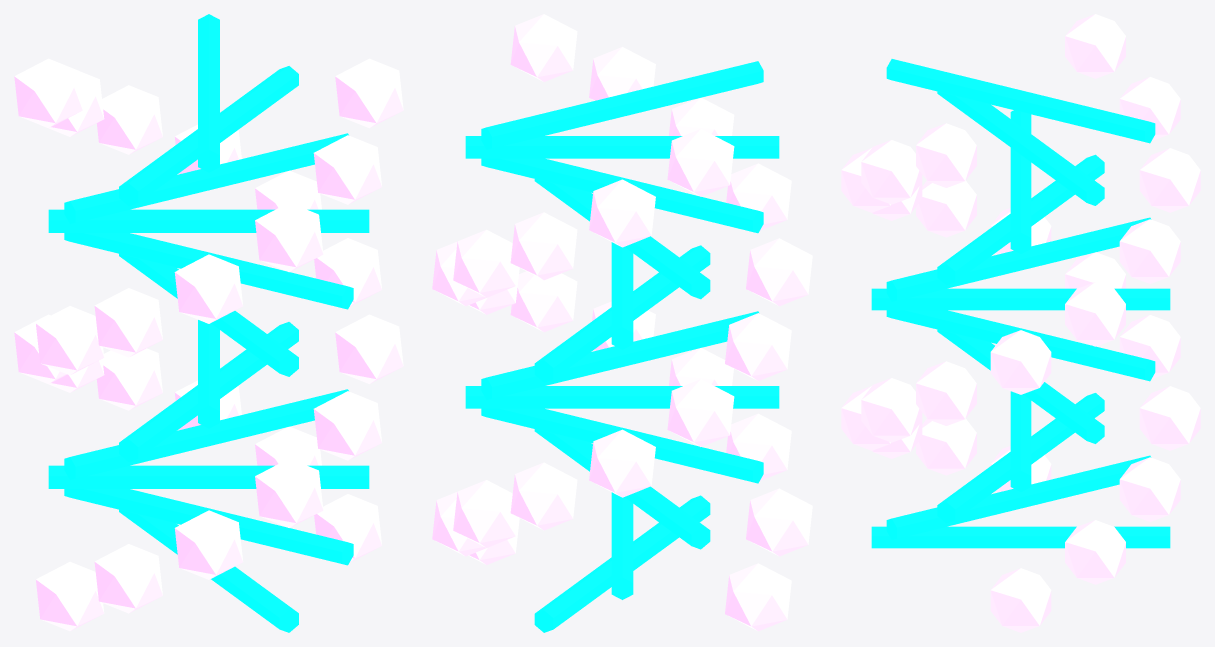
File: anomaly_gen.glb
The picture shows the model from 3 angles, left to right: view 1: azimuth 30°, elevation 25°; view 2: azimuth 150°, elevation 25°; view 3: azimuth 270°, elevation 25°; orthographic projection. The views are drawn at different scales.
Parts seen in each view (by area): view 1: Cylinder.002, Cylinder.008, Cylinder.007, Cylinder.001, Cylinder.009, Cylinder.003, Cylinder.010, Cylinder.004, Icosphere.005, Icosphere.014, Icosphere.023, Icosphere.016 (+24 smaller); view 2: Cylinder.011, Cylinder.010, Cylinder.004, Cylinder.003, Cylinder.009, Cylinder.005, Cylinder.006, Cylinder, Icosphere.010, Icosphere.023, Icosphere.014, Icosphere.022 (+24 smaller); view 3: Cylinder.011, Cylinder.006, Cylinder, Cylinder.005, Cylinder.001, Cylinder.007, Cylinder.010, Cylinder.008, Cylinder.002, Icosphere.013, Icosphere.019, Icosphere.004 (+24 smaller).
Boxes of the visible parts, <box> form: Cylinder.002: <box>48,465,369,488</box>; Cylinder.008: <box>48,209,369,232</box>; Cylinder.007: <box>64,233,353,309</box>; Cylinder.001: <box>64,489,353,565</box>; Cylinder.009: <box>64,133,348,224</box>; Cylinder.003: <box>64,389,348,479</box>; Cylinder.010: <box>119,66,298,206</box>; Cylinder.004: <box>119,322,298,461</box>; Icosphere.005: <box>174,510,243,579</box>; Icosphere.014: <box>94,288,162,357</box>; Icosphere.023: <box>14,58,82,128</box>; Icosphere.016: <box>174,254,242,323</box>; Cylinder.011: <box>481,61,763,149</box>; Cylinder.010: <box>465,136,779,158</box>; Cylinder.004: <box>465,386,779,408</box>; Cylinder.003: <box>481,408,763,483</box>; Cylinder.009: <box>481,158,763,233</box>; Cylinder.005: <box>481,311,759,399</box>; Cylinder.006: <box>534,245,710,382</box>; Cylinder: <box>534,495,710,632</box>; Icosphere.010: <box>667,379,734,446</box>; Icosphere.023: <box>667,129,734,196</box>; Icosphere.014: <box>746,238,812,306</box>; Icosphere.022: <box>510,14,577,81</box>; Cylinder.011: <box>886,59,1155,143</box>; Cylinder.006: <box>871,288,1170,310</box>; Cylinder: <box>871,526,1170,548</box>; Cylinder.005: <box>886,310,1155,381</box>; Cylinder.001: <box>886,455,1151,539</box>; Cylinder.007: <box>886,217,1151,301</box>; Cylinder.010: <box>937,91,1104,205</box>; Cylinder.008: <box>937,154,1104,285</box>; Cylinder.002: <box>937,393,1104,523</box>; Icosphere.013: <box>990,330,1051,394</box>; Icosphere.019: <box>1139,148,1200,212</box>; Icosphere.004: <box>1119,457,1180,521</box>.
Size of the model in its own units: 1.82 by 2.78 by 1.81.
